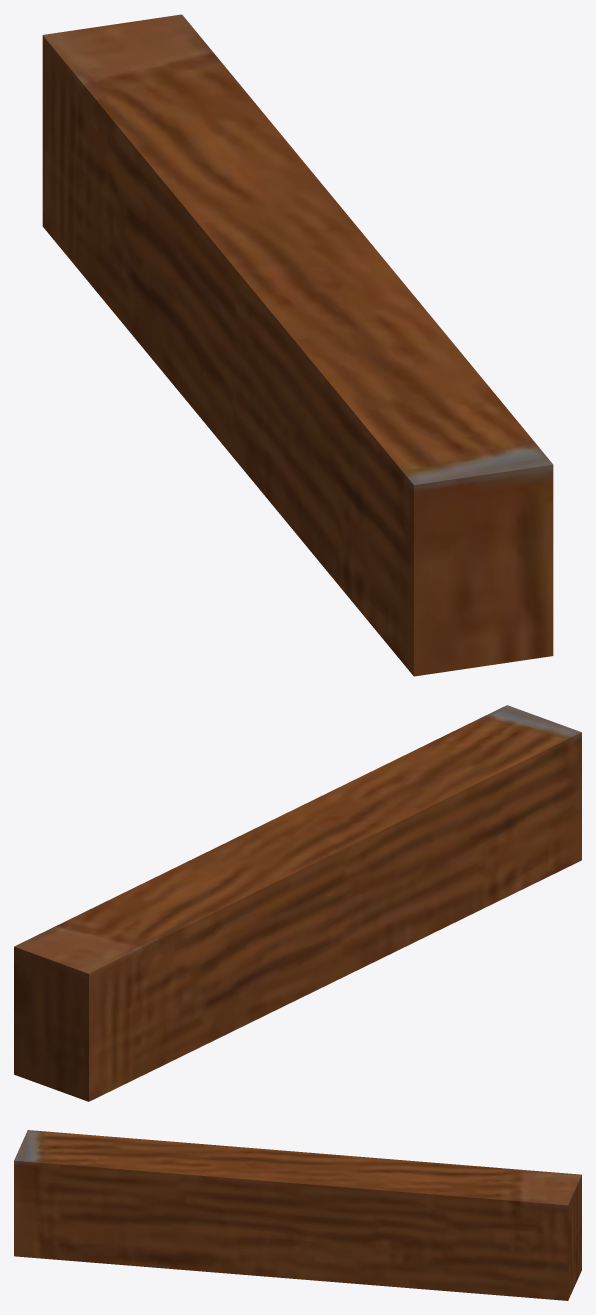
Rendered from support_arm__beam_0.glb.
3 views of the same model, one above another, from view 1: azimuth 30°, elevation 25°; view 2: azimuth 150°, elevation 25°; view 3: azimuth 270°, elevation 25° (orthographic). The views are drawn at different scales.
Parts seen in each view (by area): view 1: geometry_0; view 2: geometry_0; view 3: geometry_0.
Boxes of the visible parts, x1,y1,x2,y2 form: geometry_0: (42, 14, 553, 676); geometry_0: (14, 705, 581, 1101); geometry_0: (14, 1130, 581, 1300).
Size of the model in its own units: 0.0675 by 0.04 by 0.2152.
Materials: 1 (1 with a texture image).
